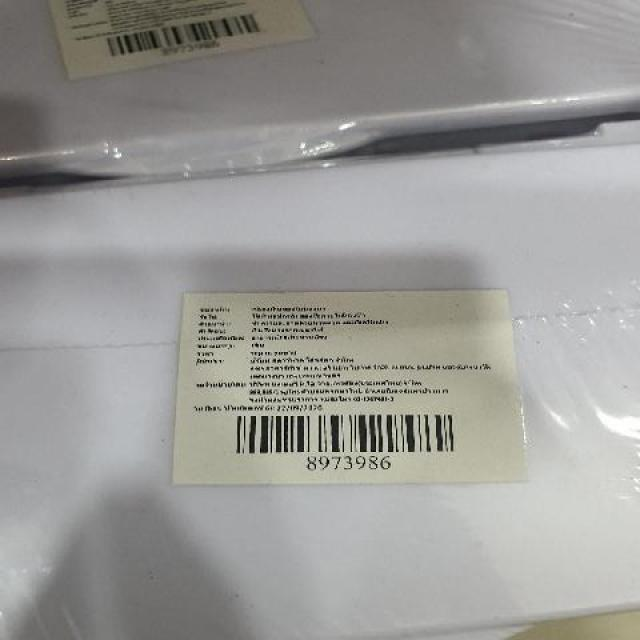Barcode: (227, 408, 469, 473)
